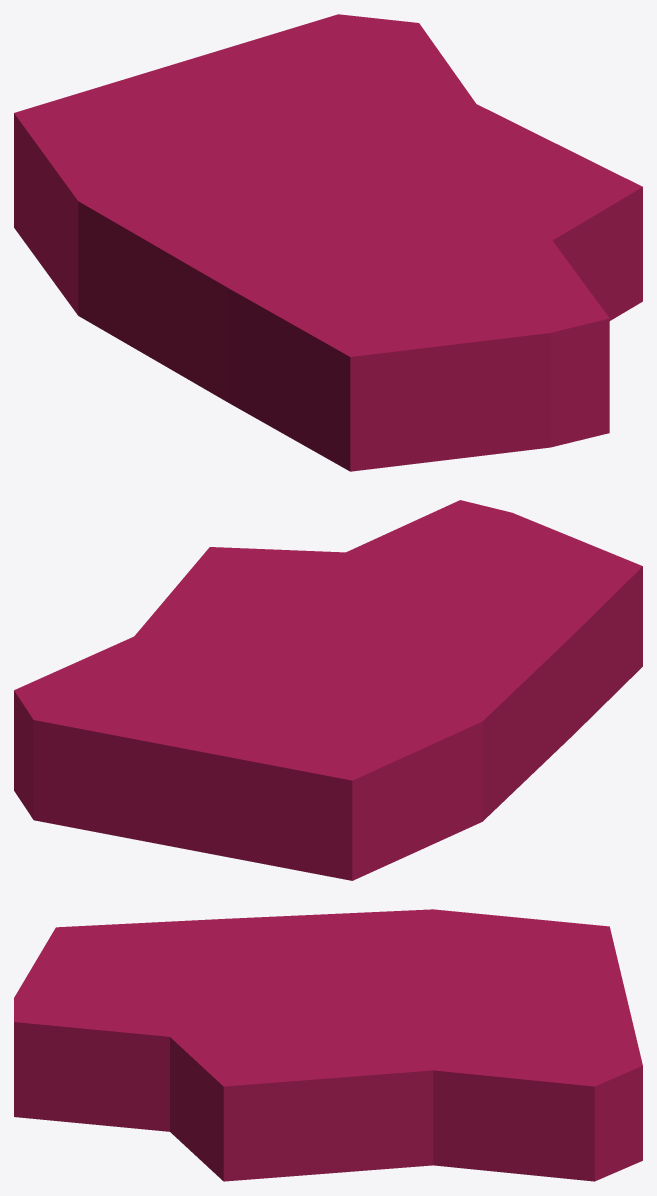
The model's file is Boss_Floor_02.fbx.
The picture shows the model from 3 angles, top to bottom: view 1: azimuth 30°, elevation 25°; view 2: azimuth 150°, elevation 25°; view 3: azimuth 270°, elevation 25°; orthographic projection. The views are drawn at different scales.
Visible parts, largest first — view 1: Boss_Floor_02; view 2: Boss_Floor_02; view 3: Boss_Floor_02.
Boxes of the visible parts, x1,y1,x2,y2 form: Boss_Floor_02: [14, 14, 642, 471]; Boss_Floor_02: [14, 500, 642, 880]; Boss_Floor_02: [14, 909, 642, 1181].
Bounding box in the file's own units: 800 × 200 × 1200.
